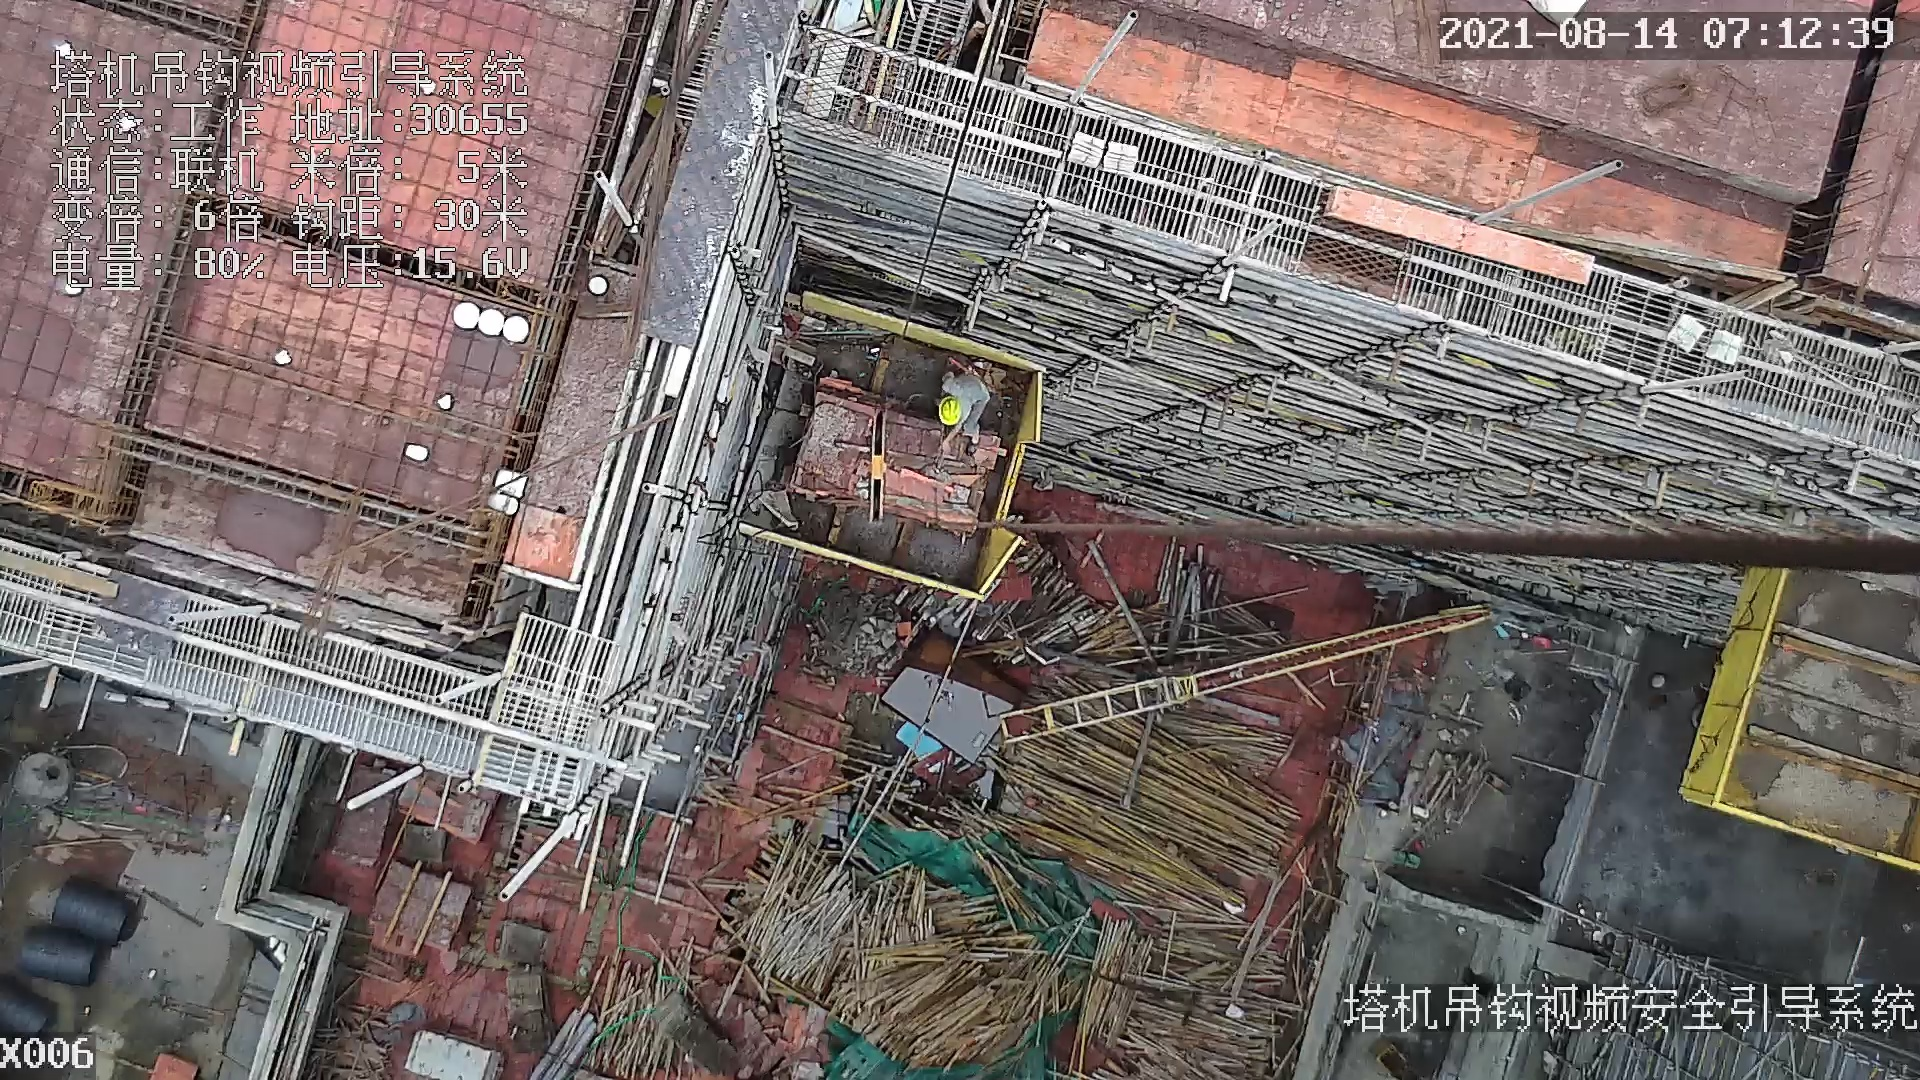helmet: (929, 392, 967, 431)
hook: (858, 399, 892, 523)
person: (929, 365, 988, 456)
